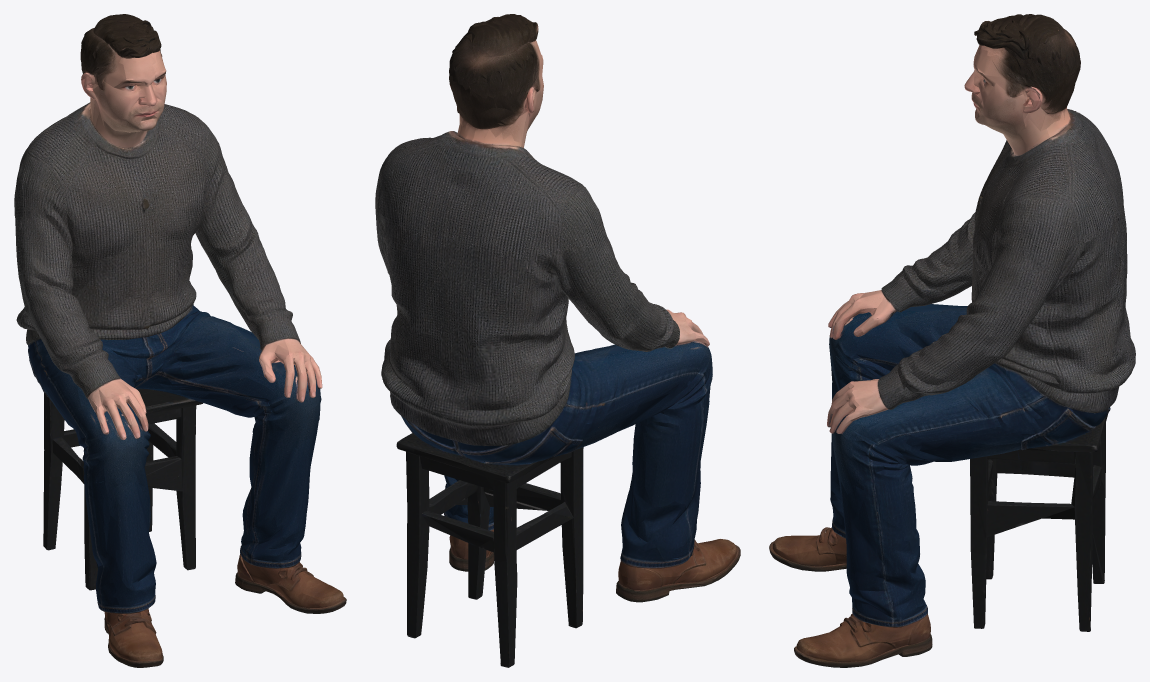
The model's file is meshy.glb.
The picture shows the model from 3 angles, left to right: view 1: azimuth 30°, elevation 25°; view 2: azimuth 150°, elevation 25°; view 3: azimuth 270°, elevation 25°; orthographic projection. The views are drawn at different scales.
Parts seen in each view (by area): view 1: Mesh_0; view 2: Mesh_0; view 3: Mesh_0.
Part boxes in pixels (left/top/right/bottom): Mesh_0: left=14, top=14, right=346, bottom=667; Mesh_0: left=375, top=14, right=740, bottom=667; Mesh_0: left=769, top=14, right=1135, bottom=667.
Size of the model in its own units: 0.8582 by 1.9 by 1.08.
1 material, 1 textured.
